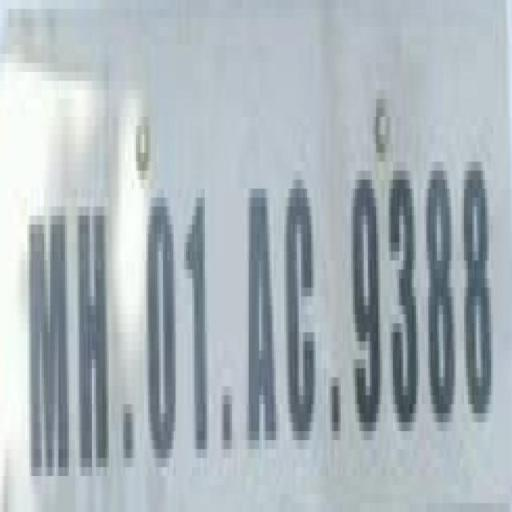number plate: (0, 17, 487, 512)
